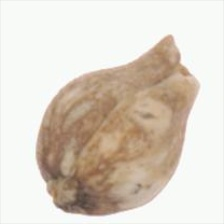L1: (162, 34, 200, 91), (43, 171, 90, 215)
L2: (35, 34, 200, 216)
